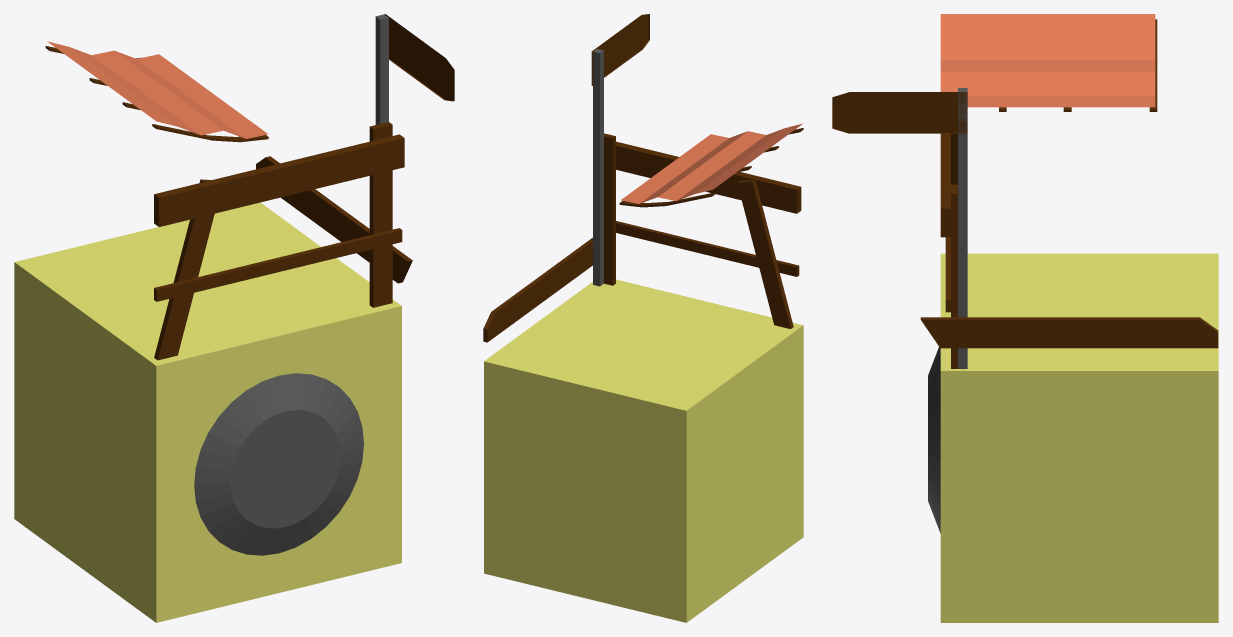
Rendered from tile-start.glb.
3 renders of one model, left to right at view 1: azimuth 30°, elevation 25°; view 2: azimuth 150°, elevation 25°; view 3: azimuth 270°, elevation 25°, orthographic. The views are drawn at different scales.
Parts seen in each view (by area): view 1: cube, Circle, plot, strecha, flag, flag-pole, tramky; view 2: cube, plot, strecha, flag-pole, flag, tramky; view 3: cube, strecha, plot, flag, flag-pole, Circle.
Boxes of the visible parts, x1,y1,x2,y2 form: cube: [14, 202, 401, 622]; Circle: [194, 373, 363, 555]; plot: [154, 122, 412, 360]; strecha: [47, 41, 267, 138]; flag: [384, 14, 454, 101]; flag-pole: [375, 14, 388, 124]; tramky: [45, 46, 268, 142]; cube: [484, 279, 803, 622]; plot: [483, 133, 801, 342]; strecha: [621, 123, 802, 203]; flag-pole: [593, 49, 603, 286]; flag: [591, 14, 649, 85]; tramky: [619, 128, 803, 207]; cube: [940, 253, 1218, 622]; strecha: [940, 14, 1155, 107]; plot: [920, 133, 1218, 368]; flag: [832, 92, 967, 133]; flag-pole: [958, 88, 967, 368]; Circle: [928, 347, 940, 533].
Bounding box in the file's own units: 1.01 × 2.1 × 1.39.
